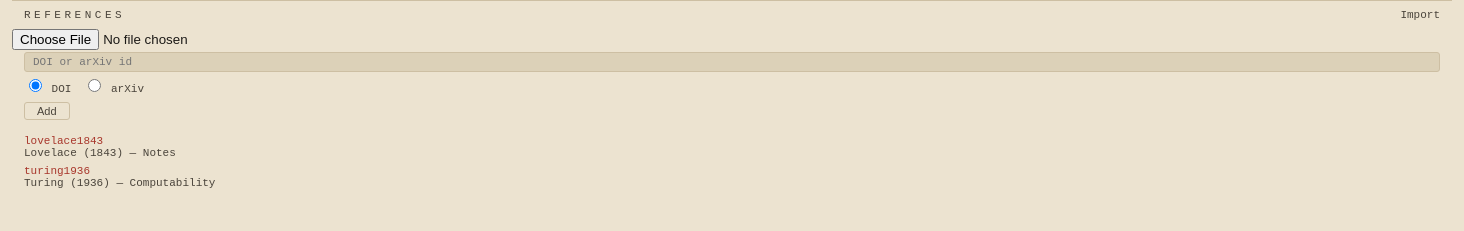
BibPanel › ignores a second submit while a lookup is in flight
In the search field labelled "DOI or arXiv id": (732, 62) [24,52,1440,72], type "q"
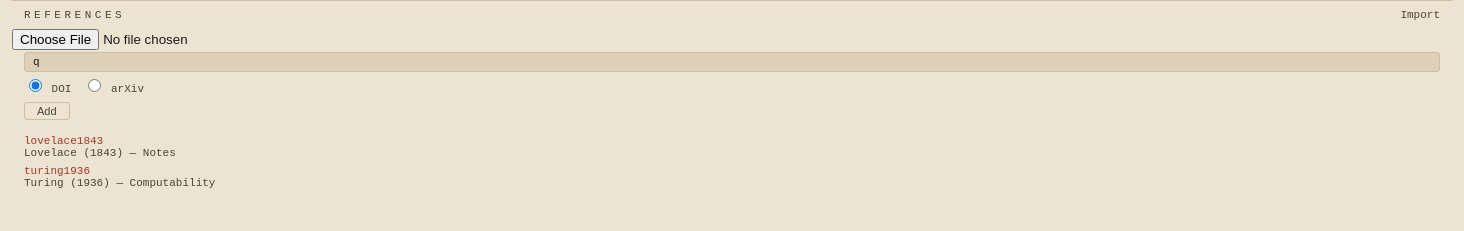
Submit the form with class "lookup", box [12,52,1452,128]
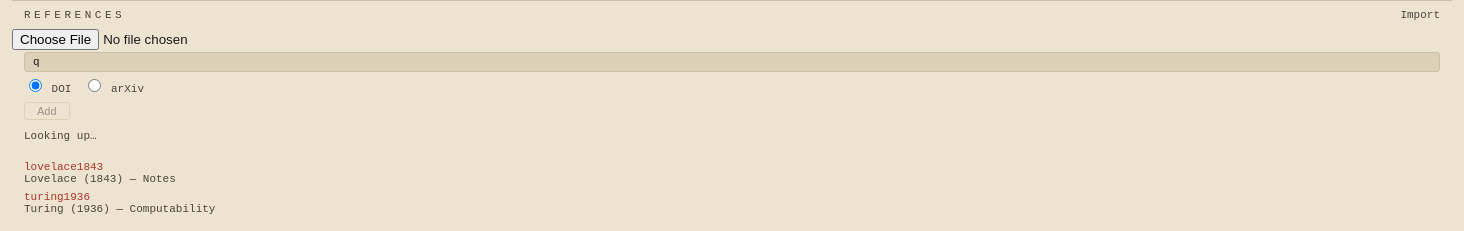
Submit the form with class "lookup", box [12,52,1452,128]
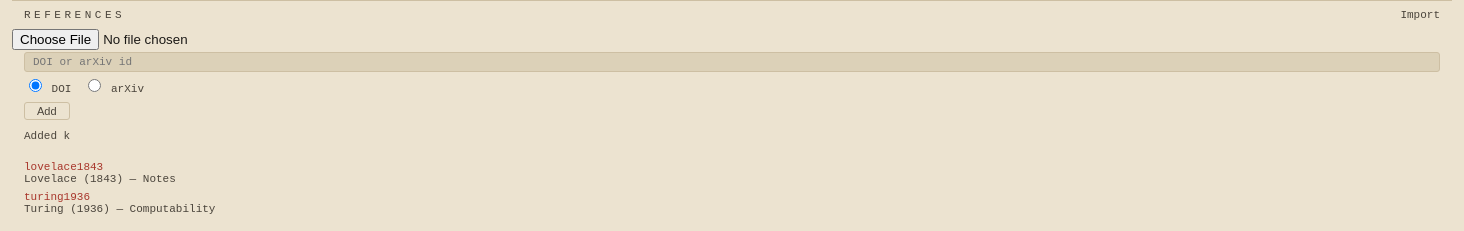
expect the message with class "status" reads "Added k": met, box [24,130,70,142]
